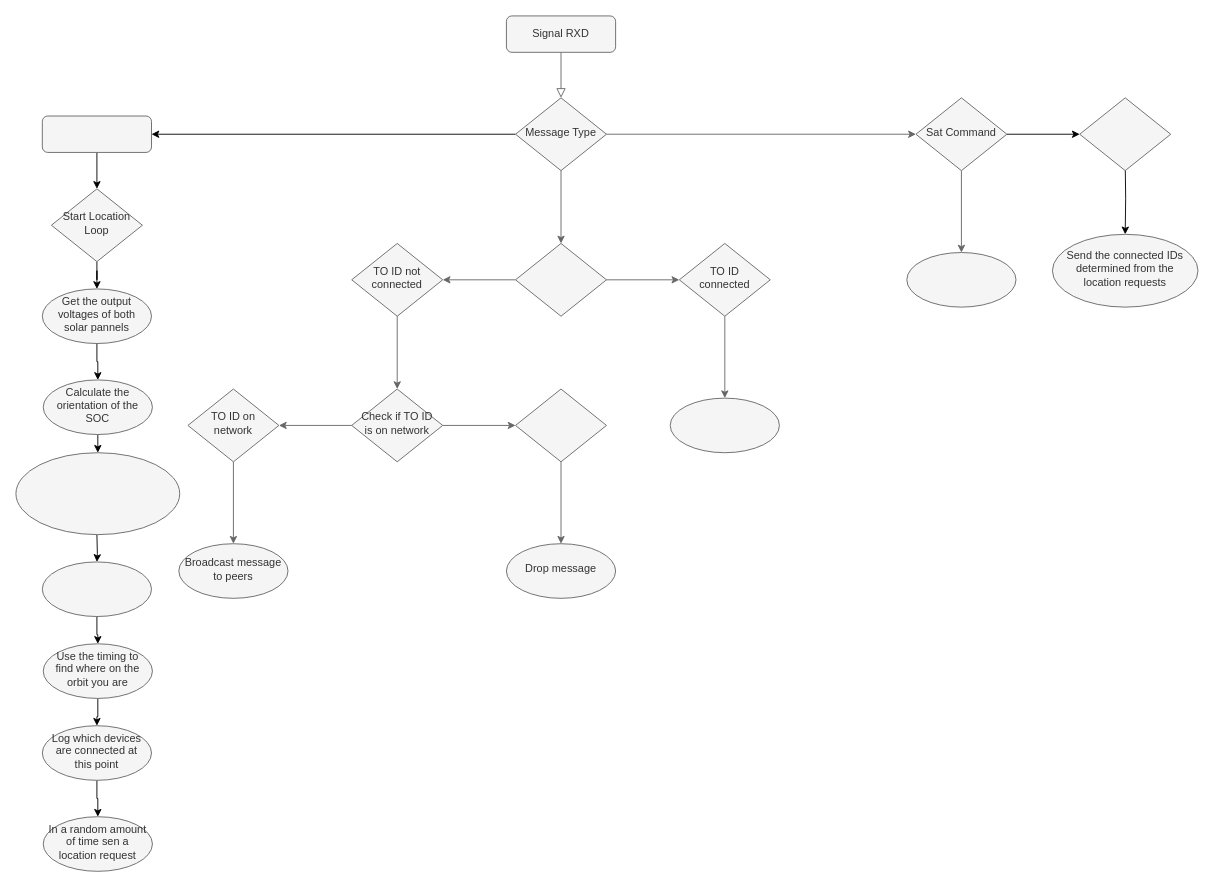
This 1214x887 diagram has some shape labels left out. The centre of each missing label's shape, as x and y in pixels:
CHCKNET+: point 1125,134
Location Responce: point 96,133
Measure the voltage to find the highest point of energy (the sun): point 97,493
Other: point 561,279
Re-transmit message: point 724,425
Run associated AT+ Command: point 961,279
Start a clock from the highest energy point: point 96,589
TO ID not on network: point 561,425
